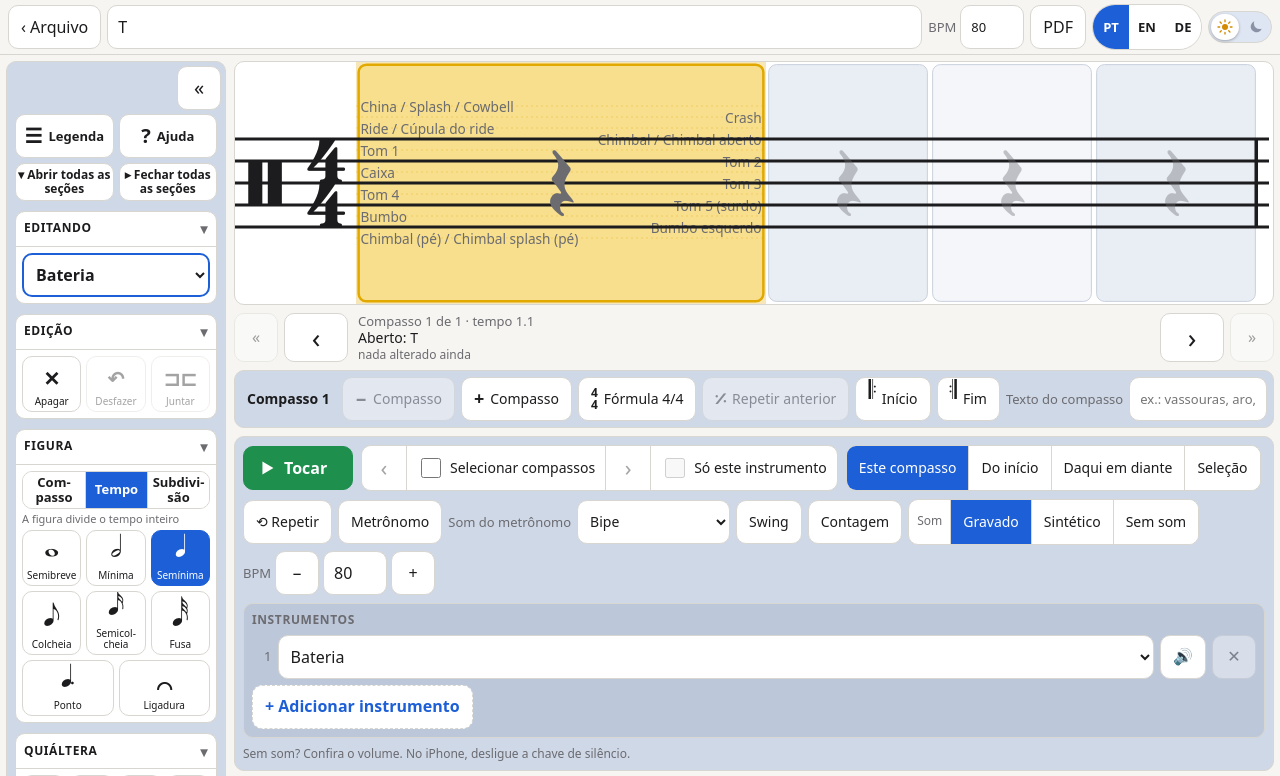
Test case: Editor › adding a bar shows it in the full score, selects it and says so
The image size is (1280, 776).
Step 1. Click the button with aria-label "Adicionar compasso no fim" → (516, 399), box x1=461 y1=377 x2=572 y2=421
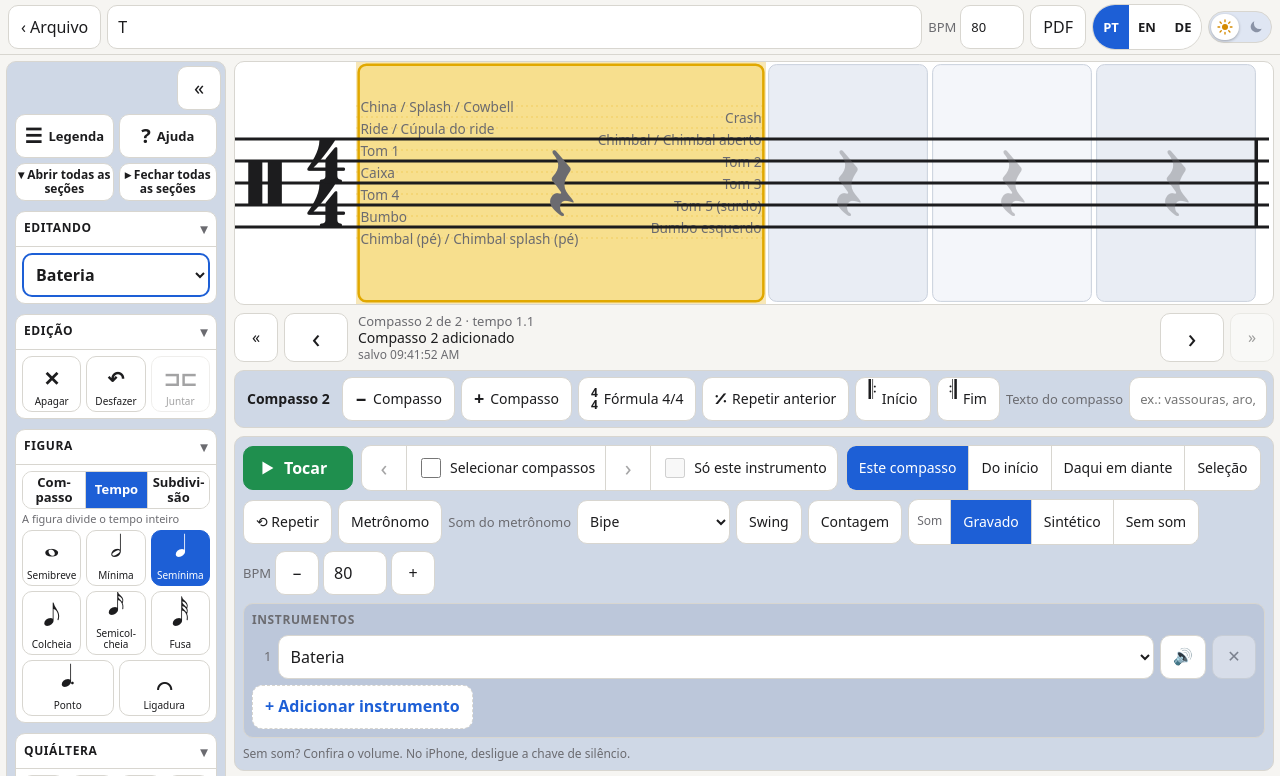
Now the text with class "where" shows "Compasso 2 de 2", box x1=358 y1=312 x2=534 y2=330
Now the element with class "status" shows "Compasso 2 adicionado", box x1=358 y1=328 x2=514 y2=347
